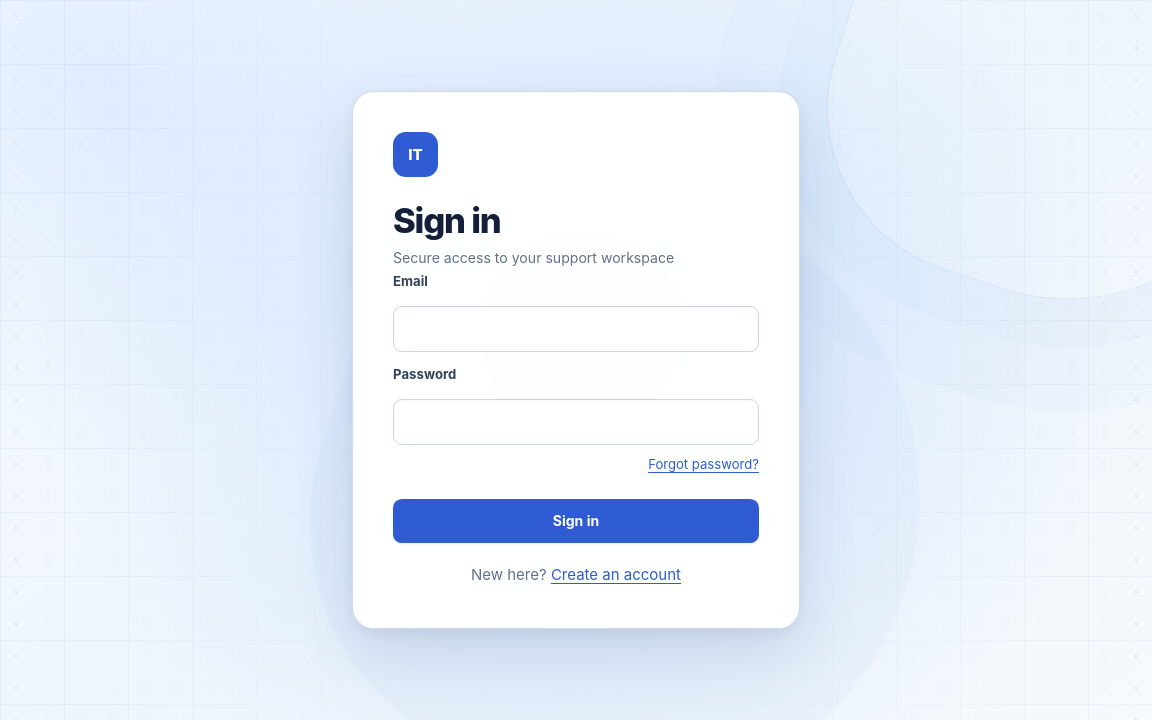
Test: auth pages › rejects invalid email
The image size is (1152, 720).
Step 1. Type "bad" into the field labelled "Email" → point(576, 329), box [393,306,759,352]
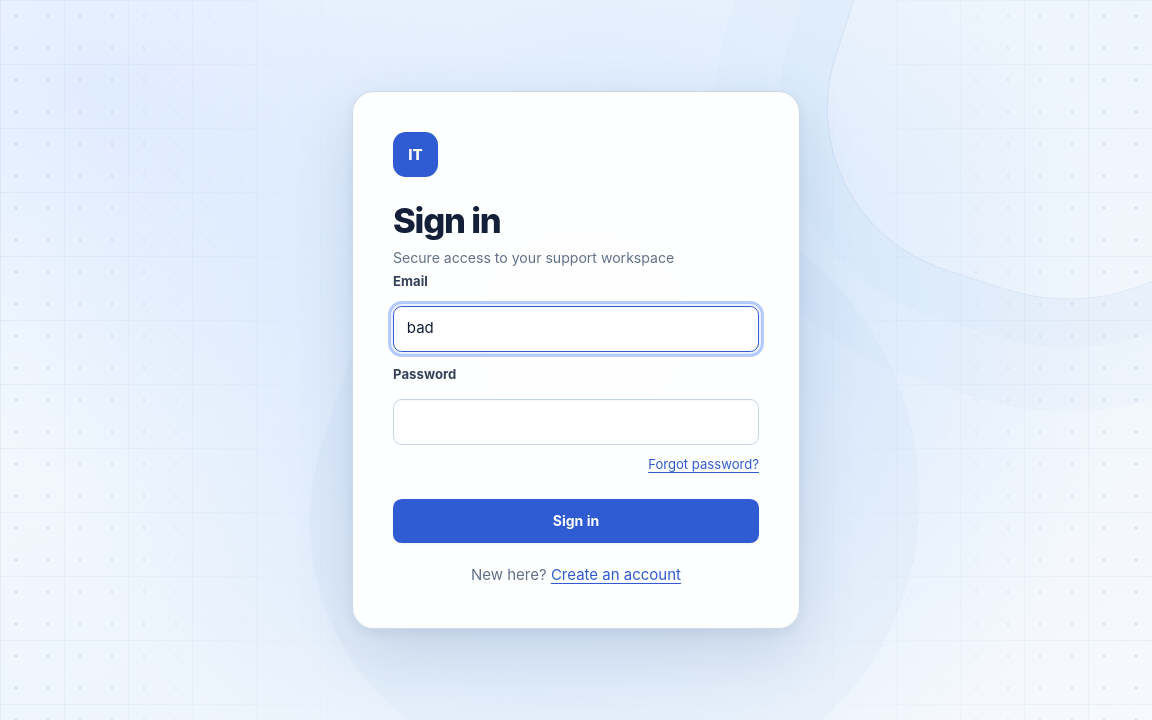
Step 2. Click the button "Sign in" → point(576, 521), box [393,499,759,543]
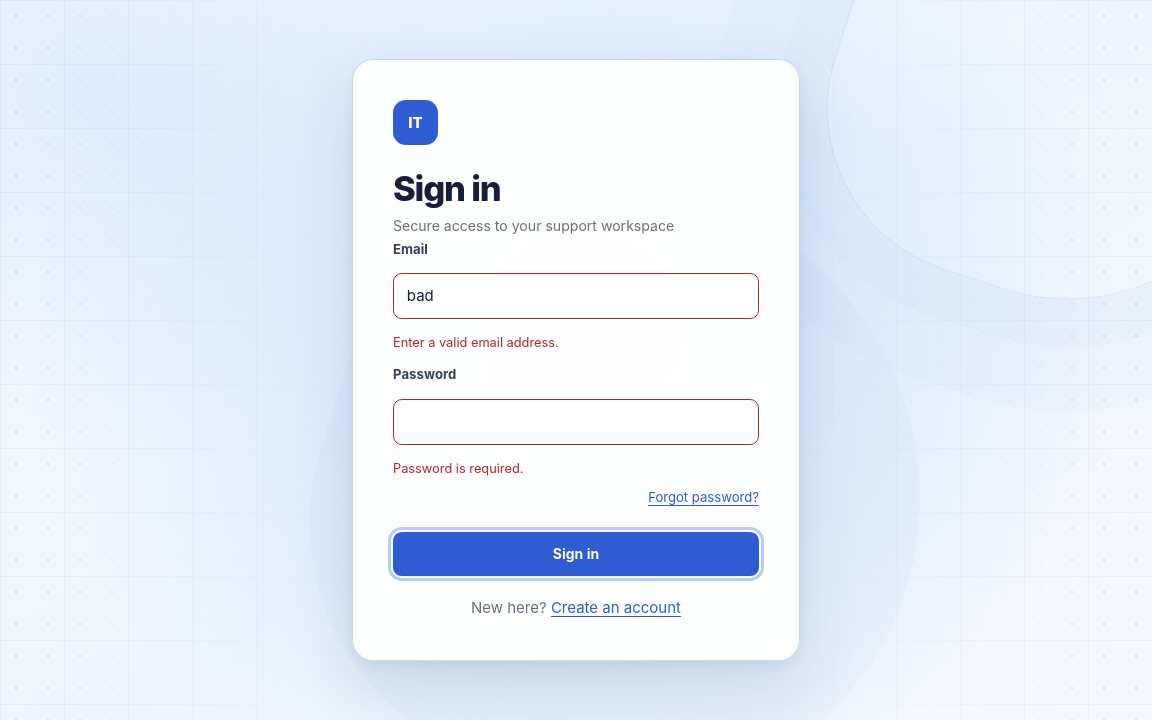
Result: the text "Enter a valid email address." is shown at [393,335,559,350]
